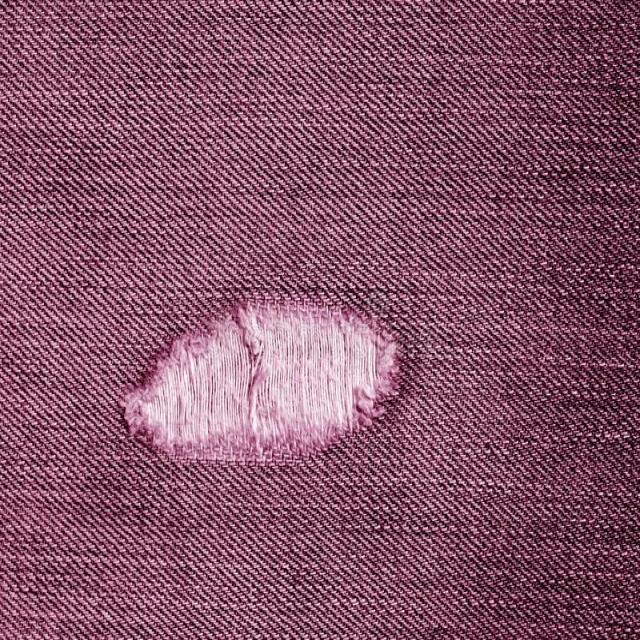Hole: (121, 301, 397, 462)
